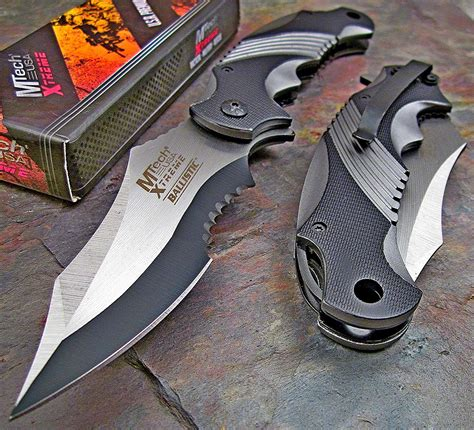knife: (10, 5, 377, 420), (296, 59, 468, 352)
